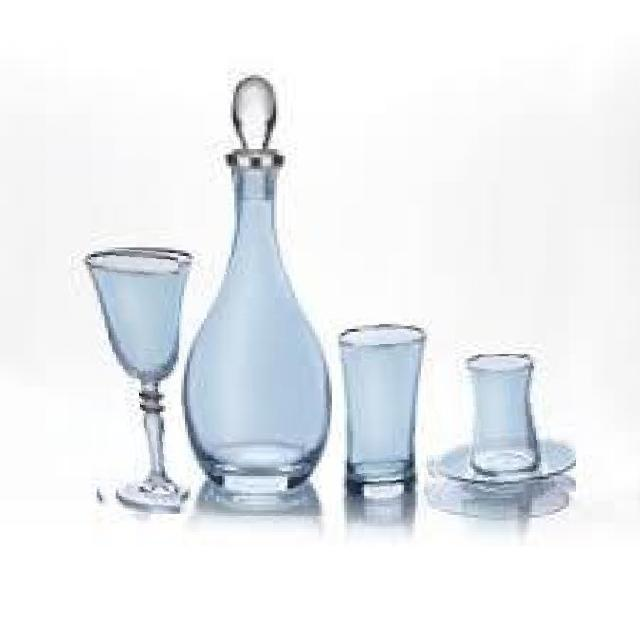Glass: (177, 68, 332, 516), (81, 246, 196, 514), (425, 354, 576, 501), (336, 324, 428, 507)
